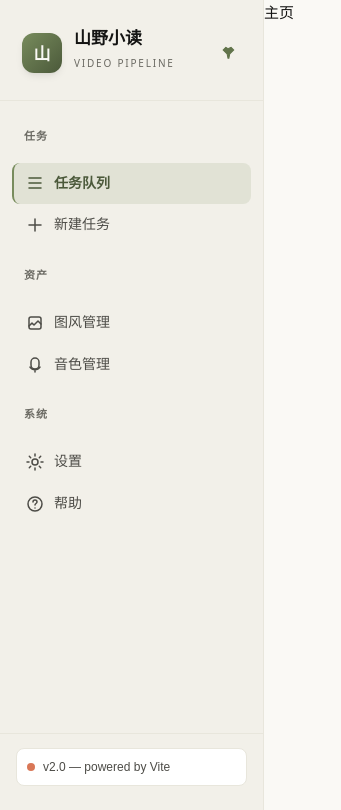
it: Sidebar prototype interaction › navigates through sidebar links and exposes the active route
Click the link "新建任务" at x=68, y=225, box [26, 216, 110, 234]
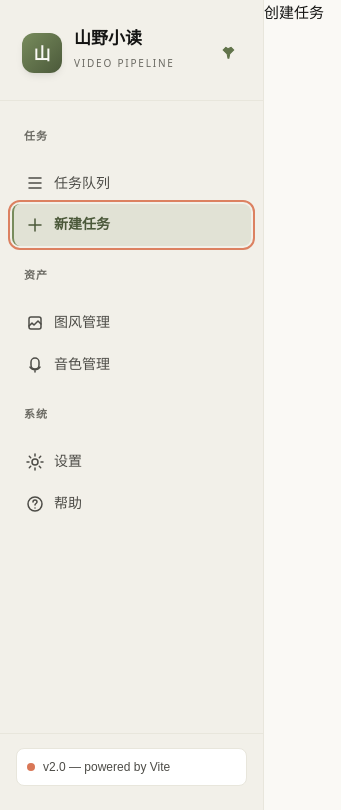
Check: the element showing "创建任务" is shown, box [264, 4, 324, 21]
